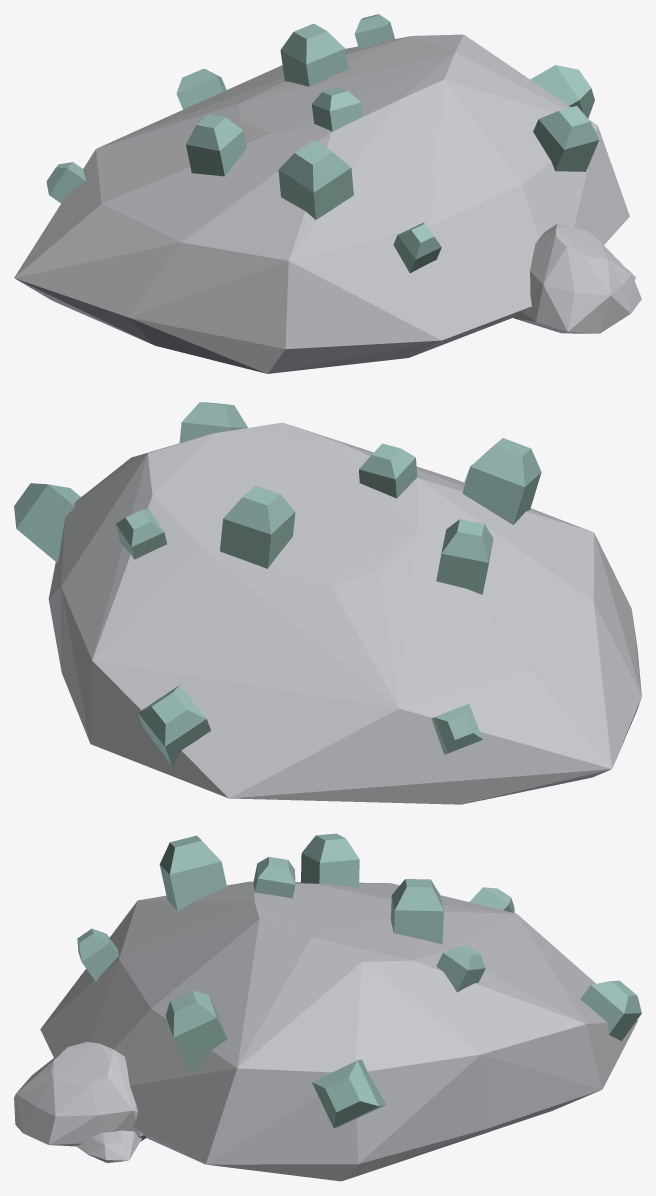
The model's file is SM_MR_Crystal_Medium_04.fbx.
3 renders of one model, top to bottom at view 1: azimuth 30°, elevation 25°; view 2: azimuth 150°, elevation 25°; view 3: azimuth 270°, elevation 25°, orthographic. The views are drawn at different scales.
Visible parts, largest first — view 1: SM_MR_Crystal_Medium_04; view 2: SM_MR_Crystal_Medium_04; view 3: SM_MR_Crystal_Medium_04.
Boxes of the visible parts, <box> form: SM_MR_Crystal_Medium_04: <box>14,14,641,373</box>; SM_MR_Crystal_Medium_04: <box>14,402,641,804</box>; SM_MR_Crystal_Medium_04: <box>14,833,641,1181</box>.
Size of the model in its own units: 1.15 by 1.1 by 0.3931.
